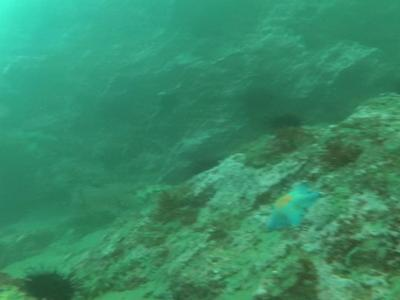holothurian: (74, 255, 157, 295)
urchin: (18, 266, 81, 298)
